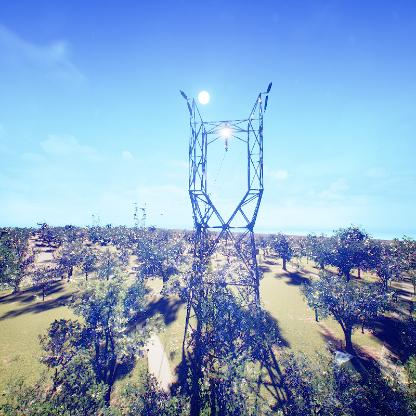tower: (177, 81, 275, 409)
